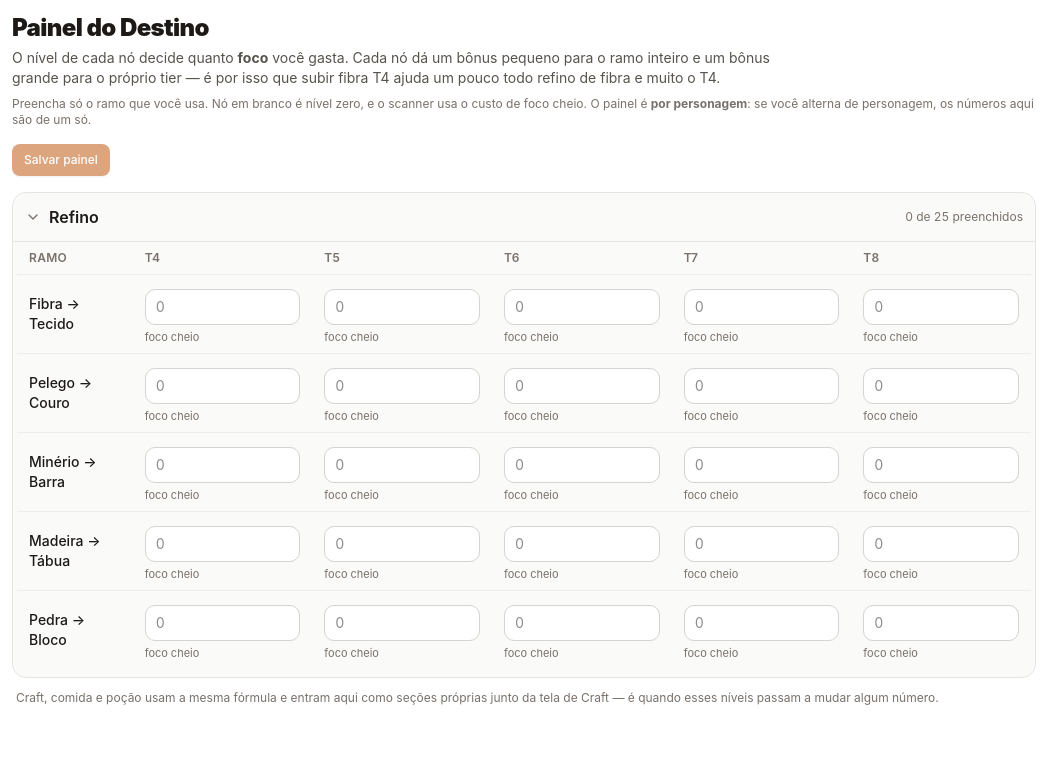
Scenario: valor fora da faixa é contido na entrada, não no servidor
Type "500" into the field named "Fibra → Tecido T8".
click(941, 307); type("500")  # box top-left (863, 289), bottom-right (1019, 325)
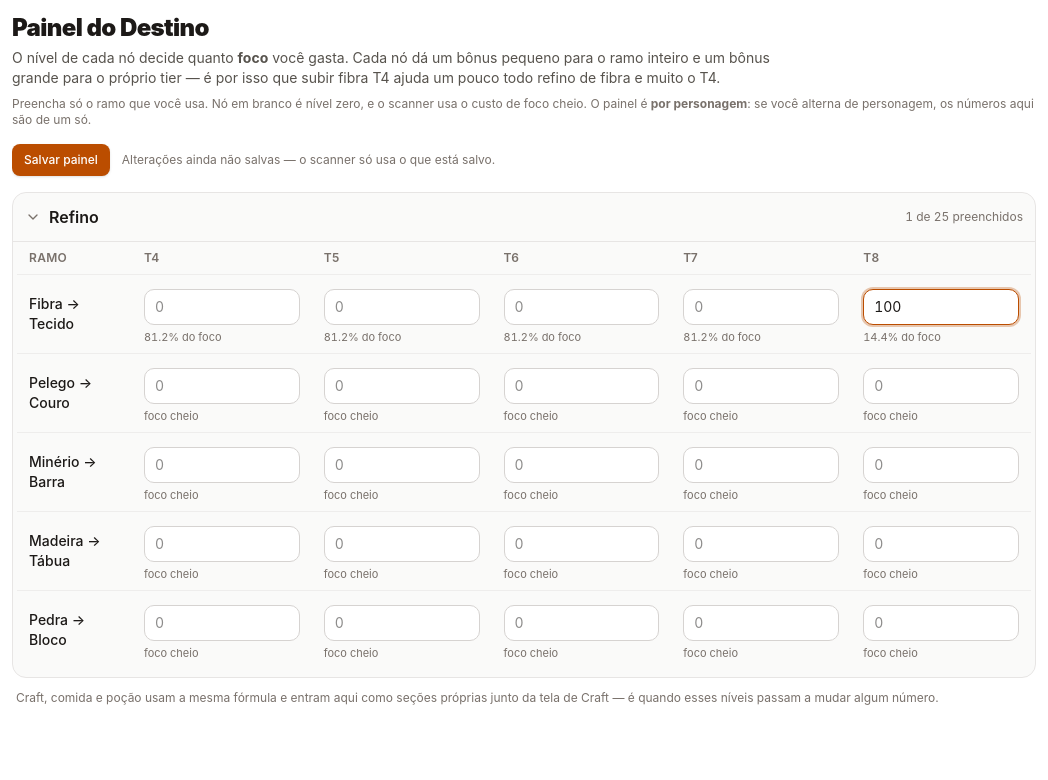
Now the field named "Fibra → Tecido T8" holds "100", box top-left (863, 289), bottom-right (1019, 325)
